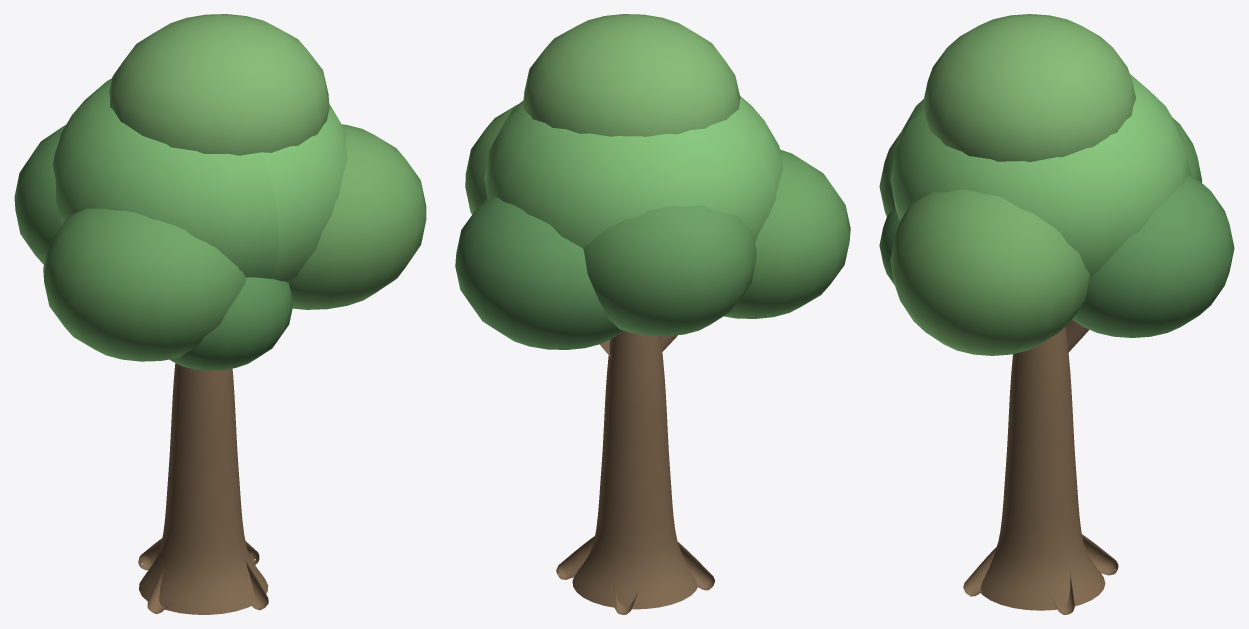
File: tree_temperate.glb
3 views of the same model, side by side, from view 1: azimuth 30°, elevation 25°; view 2: azimuth 150°, elevation 25°; view 3: azimuth 270°, elevation 25° (orthographic). The views are drawn at different scales.
Parts seen in each view (by area): view 1: Hull; view 2: Hull; view 3: Hull.
Part boxes in pixels (left/top/right/bottom): Hull: left=14, top=14, right=426, bottom=614; Hull: left=455, top=14, right=850, bottom=614; Hull: left=879, top=14, right=1234, bottom=614.
Size of what is drawn, in the model's own units: 1.56 by 2.31 by 1.32.
